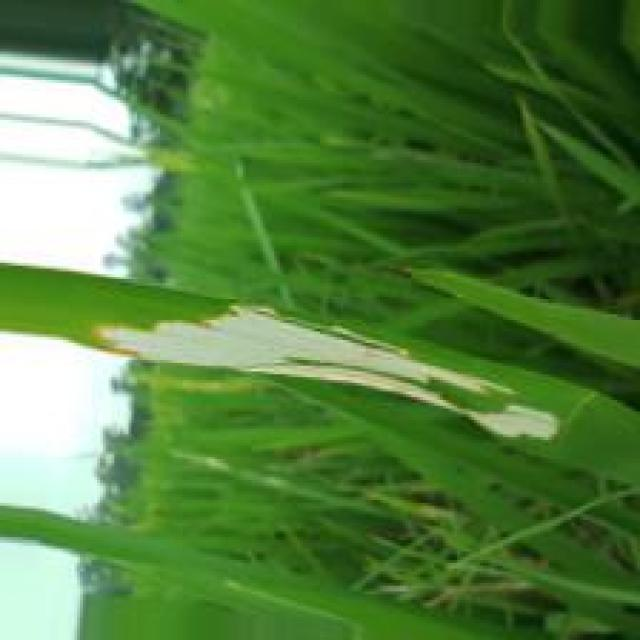Rice_Hispa: (90, 303, 563, 439)
